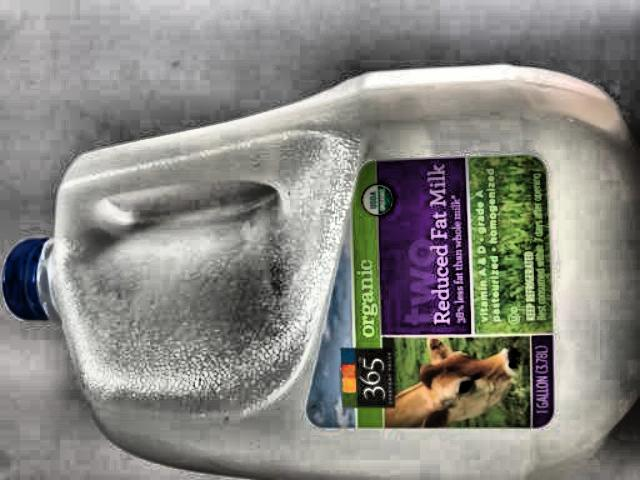Plastic: (4, 49, 640, 480)
